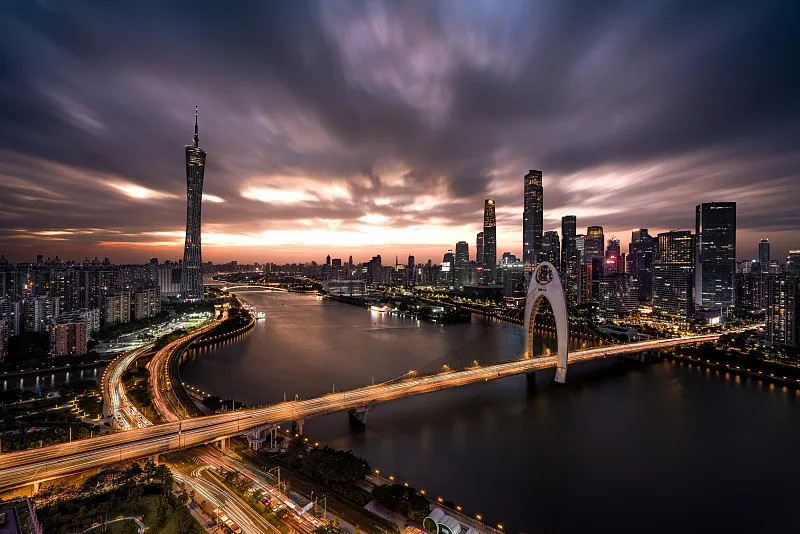Canton: (178, 106, 208, 300)
